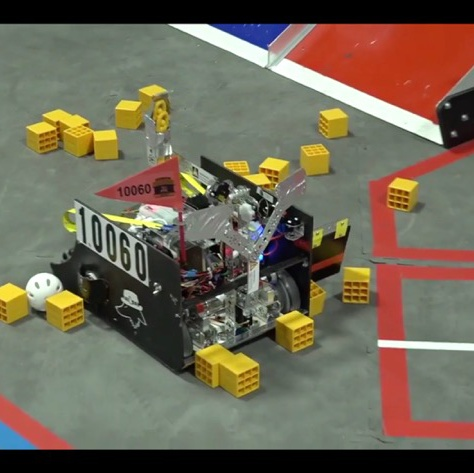robot: (41, 89, 357, 380)
